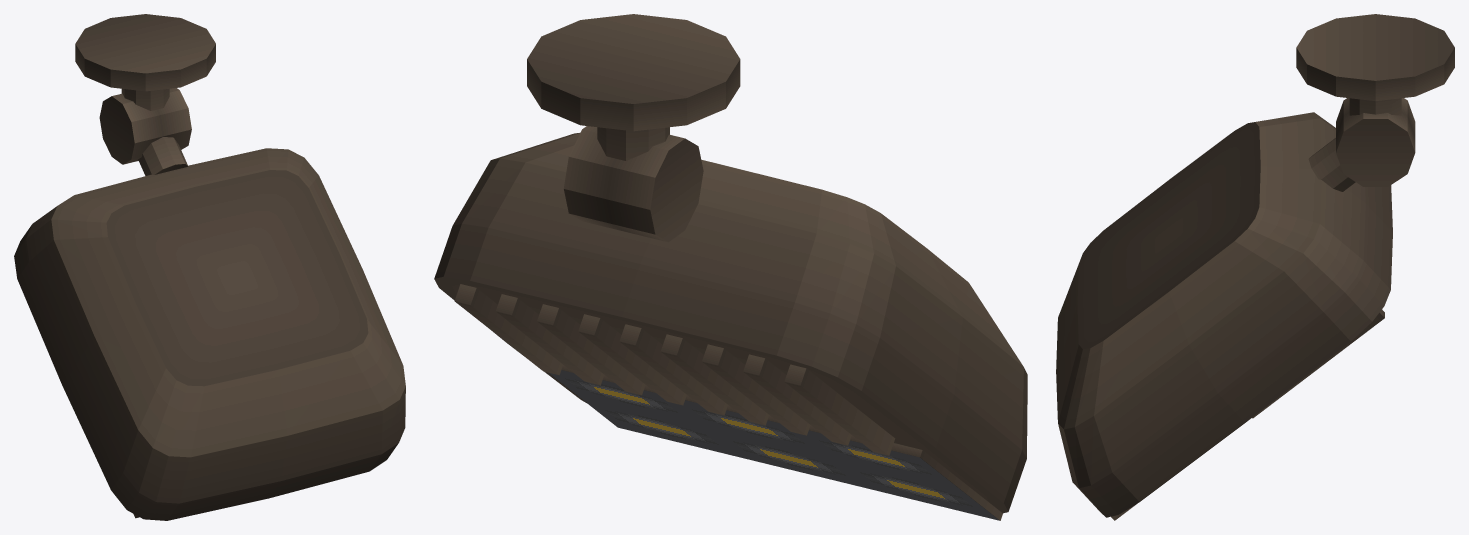
The model's file is floodlight_lithdsxf3kn_c.obj.
3 views of the same model, side by side, from view 1: azimuth 30°, elevation 25°; view 2: azimuth 150°, elevation 25°; view 3: azimuth 270°, elevation 25° (orthographic). The views are drawn at different scales.
Visible parts, largest first — view 1: fixture; view 2: fixture; view 3: fixture.
Boxes of the visible parts, box(x1,y1,x2,y2) form: fixture: box(14, 14, 405, 520); fixture: box(434, 14, 1027, 520); fixture: box(1056, 14, 1454, 520).
Size of the model in its own units: 0.4643 by 0.5709 by 0.5032.
